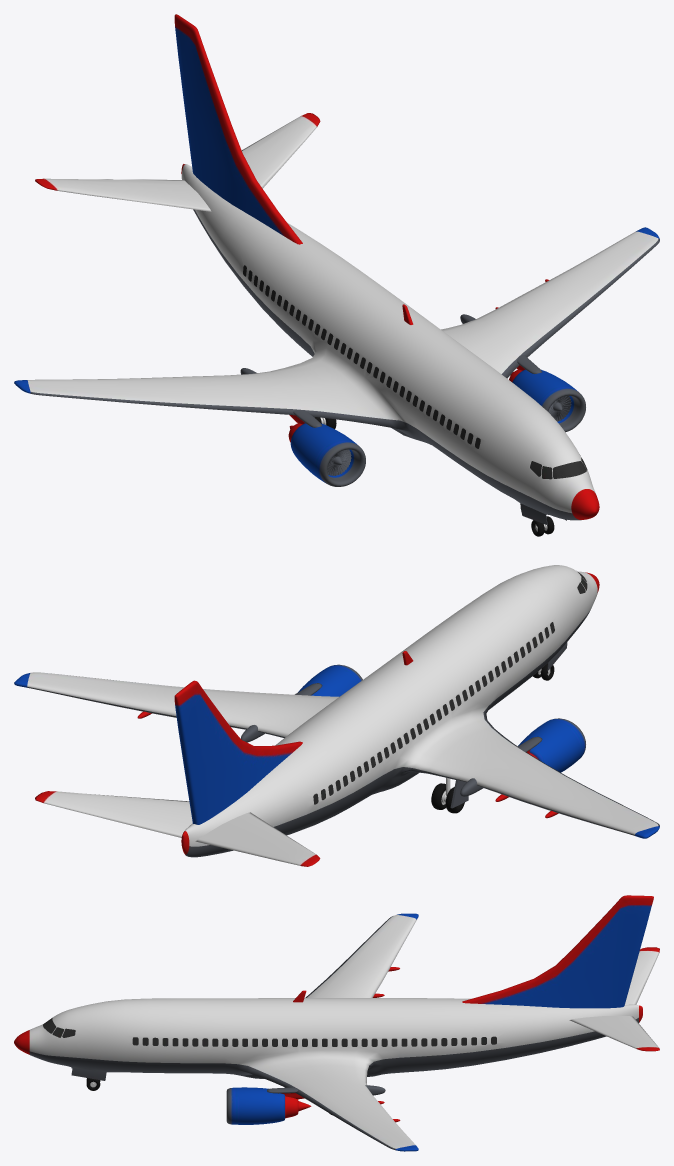
Rendered from airplane.glb.
3 renders of one model, top to bottom at view 1: azimuth 30°, elevation 25°; view 2: azimuth 150°, elevation 25°; view 3: azimuth 270°, elevation 25°, orthographic. The views are drawn at different scales.
Visible parts, largest first — view 1: Object_2, Object_3; view 2: Object_2, Object_3; view 3: Object_2, Object_3.
Boxes of the visible parts, x1,y1,x2,y2 form: Object_2: (14,164,659,525); Object_3: (35,14,585,536); Object_2: (14,565,659,857); Object_3: (35,651,585,866); Object_2: (14,913,642,1151); Object_3: (86,895,659,1124).
Bounding box in the file's own units: 3.07 × 1.17 × 3.54.
Materials: 1 (1 with a texture image).
